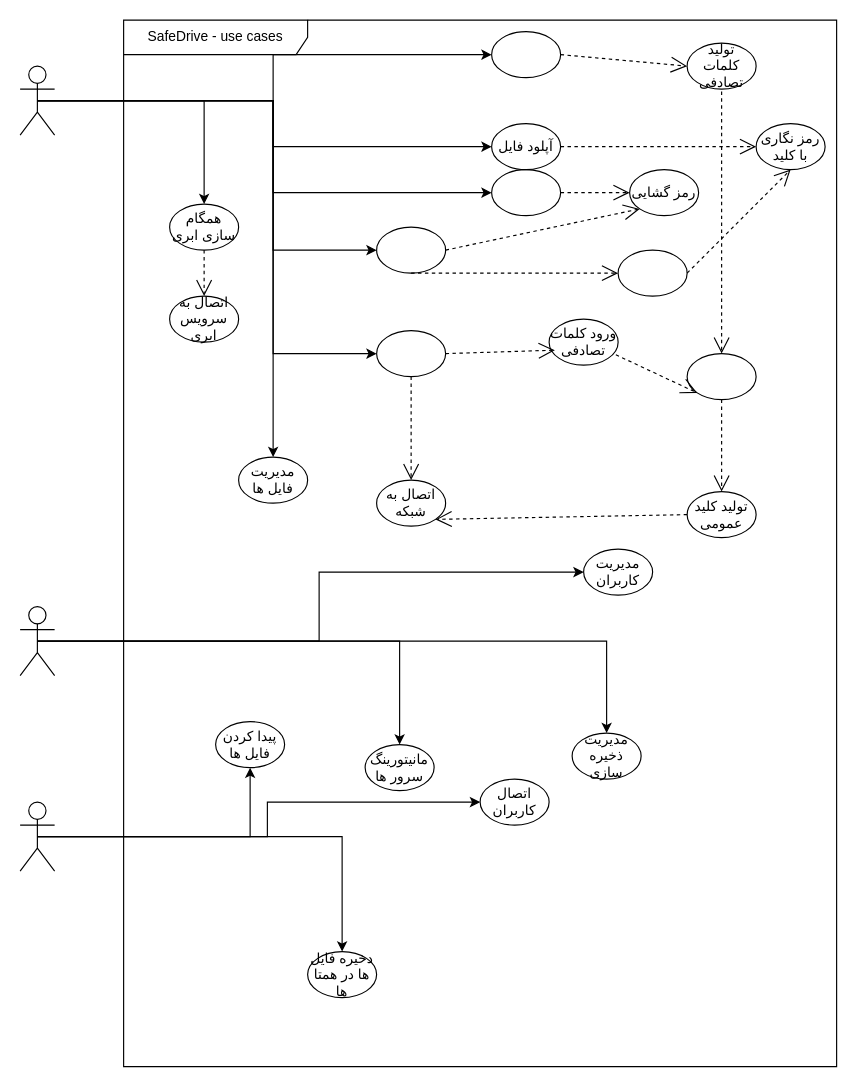
The diagram is 857 pixels wide and 1087 high, and some of its shapes have lost their labels. Here are the shapes that lost their labels. From the top down, the centre of each, then its label:
At (x=525, y=54): "ثبت نام".
At (x=37, y=100): "کاربر".
At (x=525, y=192): "دانلود فایل".
At (x=410, y=249): "اشتراک فایل".
At (x=652, y=272): "تولید کلید مشترک".
At (x=410, y=353): "ورود".
At (x=721, y=376): "تولید کلید خصوصی".
At (x=37, y=640): "ادمین".
At (x=37, y=836): "شبکه".
